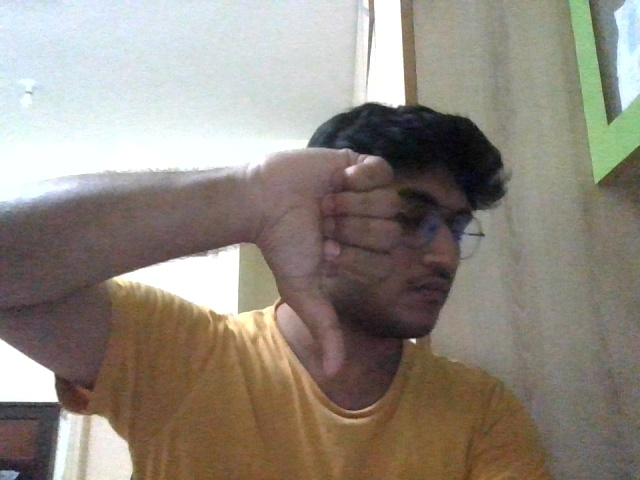thumbsdown: (254, 147, 401, 376)
